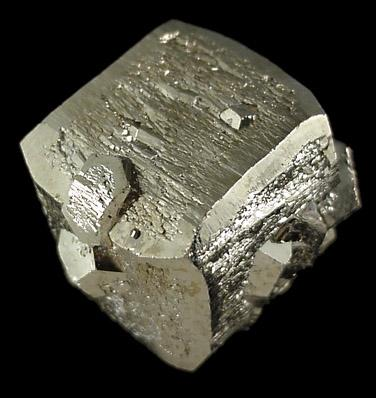pyrite: (20, 20, 362, 372)
